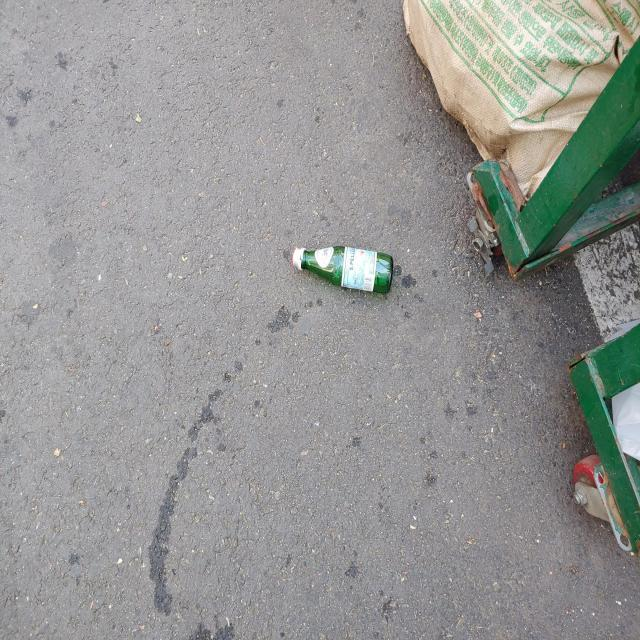glass: (292, 246, 394, 292)
